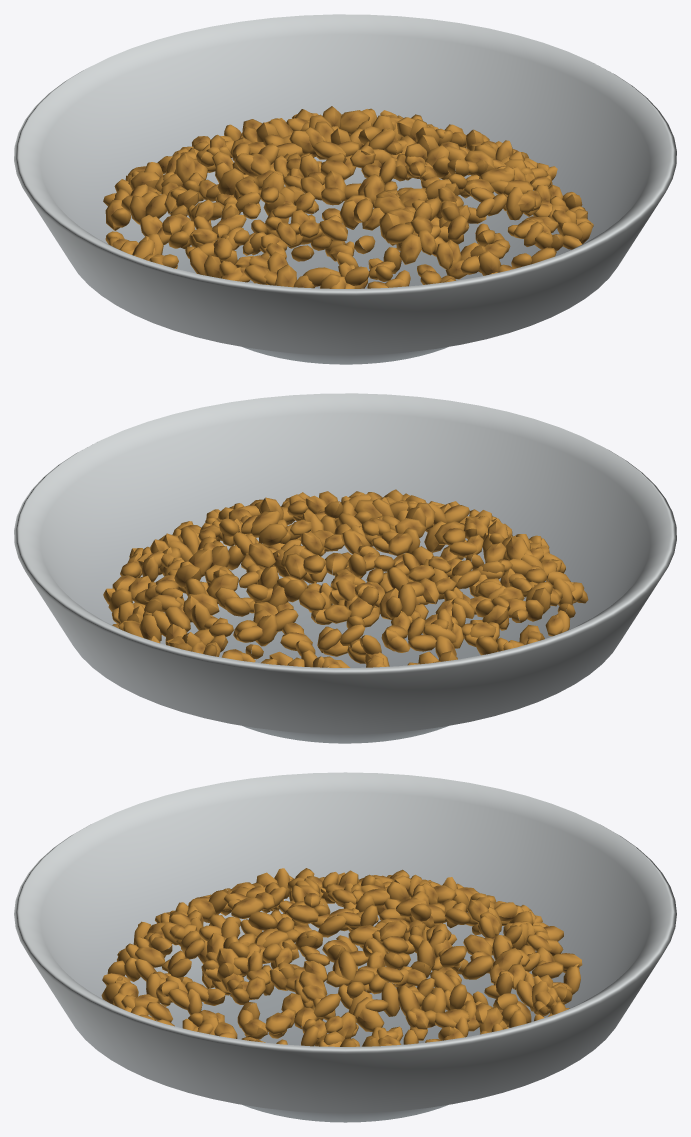
Rendered from fenugreek-seeds.glb.
3 views of the same model, one above another, from view 1: azimuth 30°, elevation 25°; view 2: azimuth 150°, elevation 25°; view 3: azimuth 270°, elevation 25° (orthographic).
Visible parts, largest first — view 1: steel, seeds; view 2: steel, seeds; view 3: steel, seeds.
Part boxes in pixels (<box>): steel: <box>14,14,676,364</box>; seeds: <box>103,106,593,288</box>; steel: <box>14,393,676,743</box>; seeds: <box>103,489,588,667</box>; steel: <box>14,772,676,1122</box>; seeds: <box>101,868,582,1046</box>.
Size of the model in its own units: 1.24 by 0.309 by 1.24.
